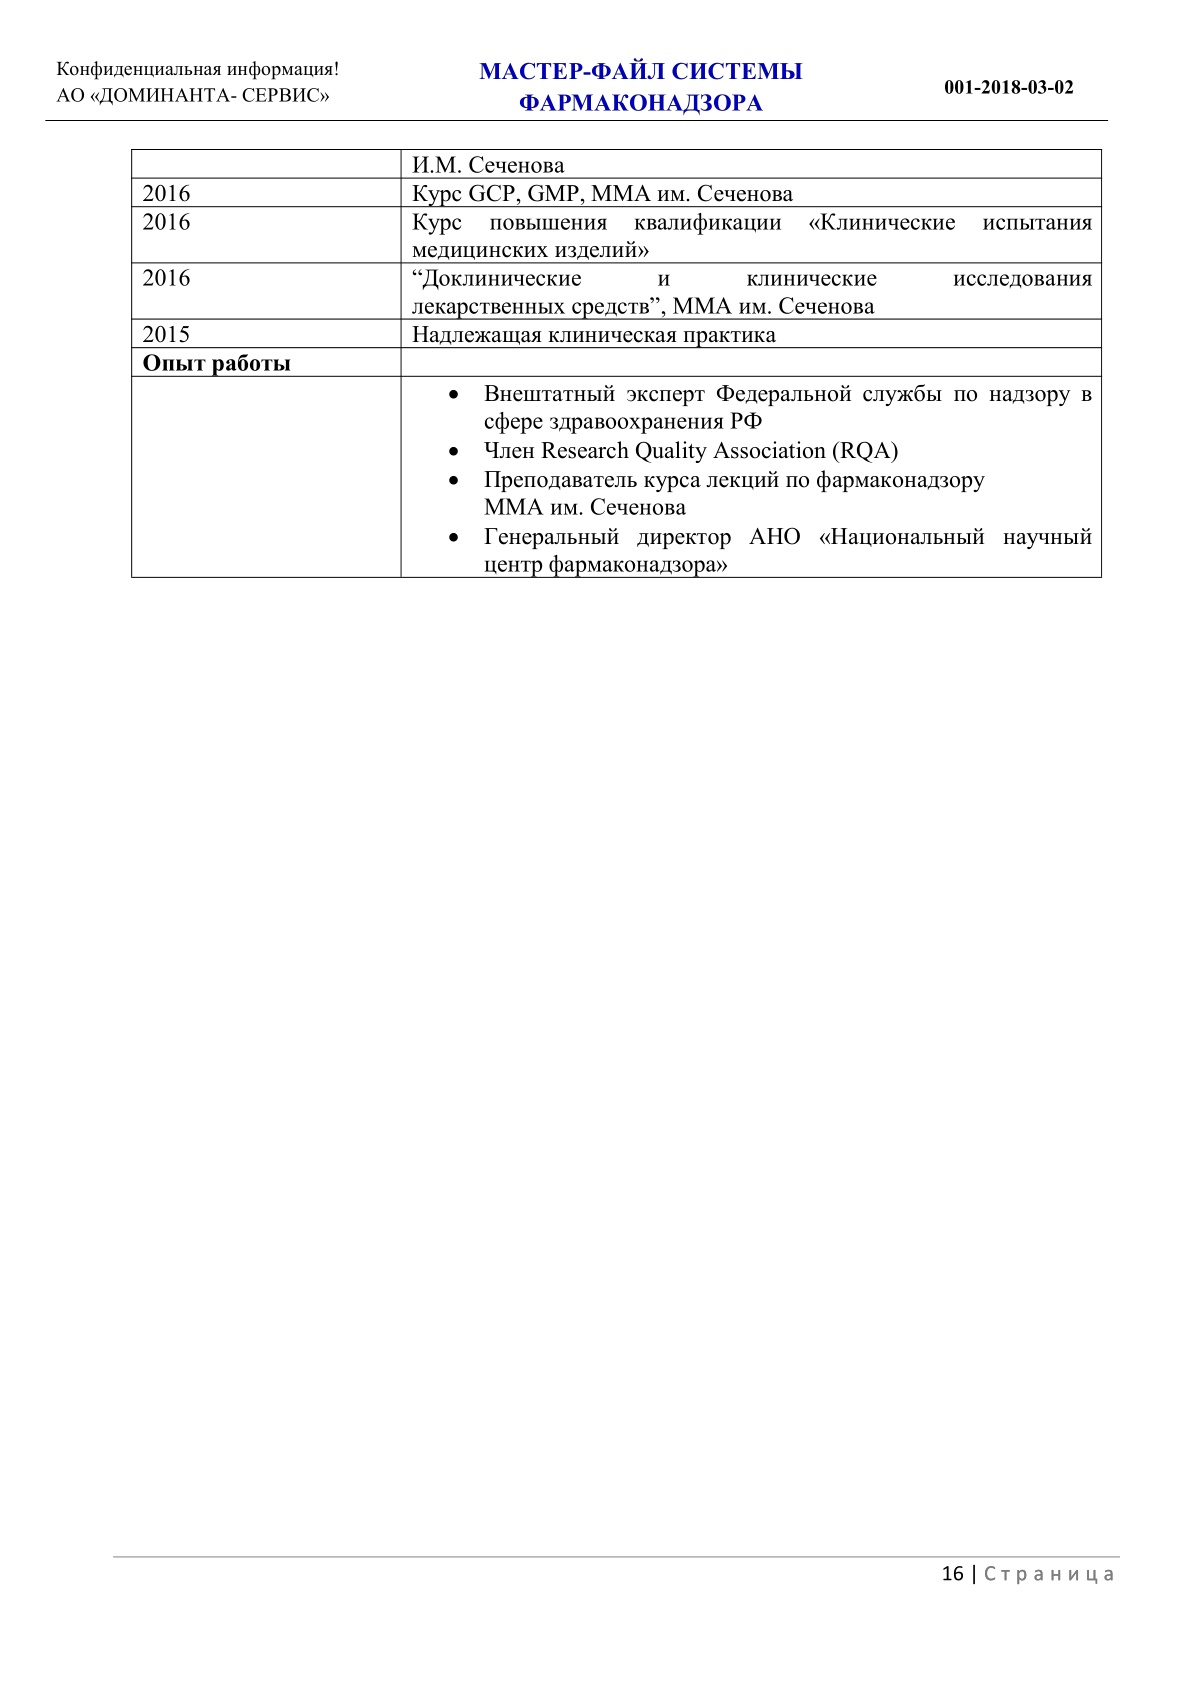full_lined: (131, 148, 1103, 579)
